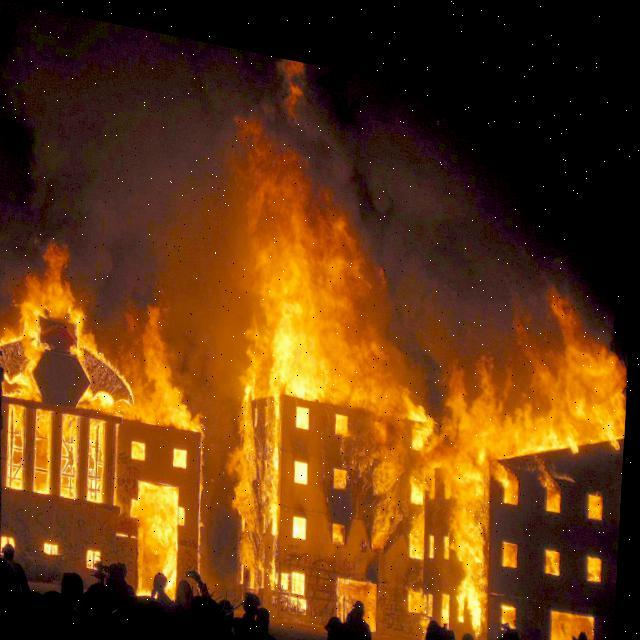Fire: (225, 123, 636, 639), (0, 245, 219, 593)
